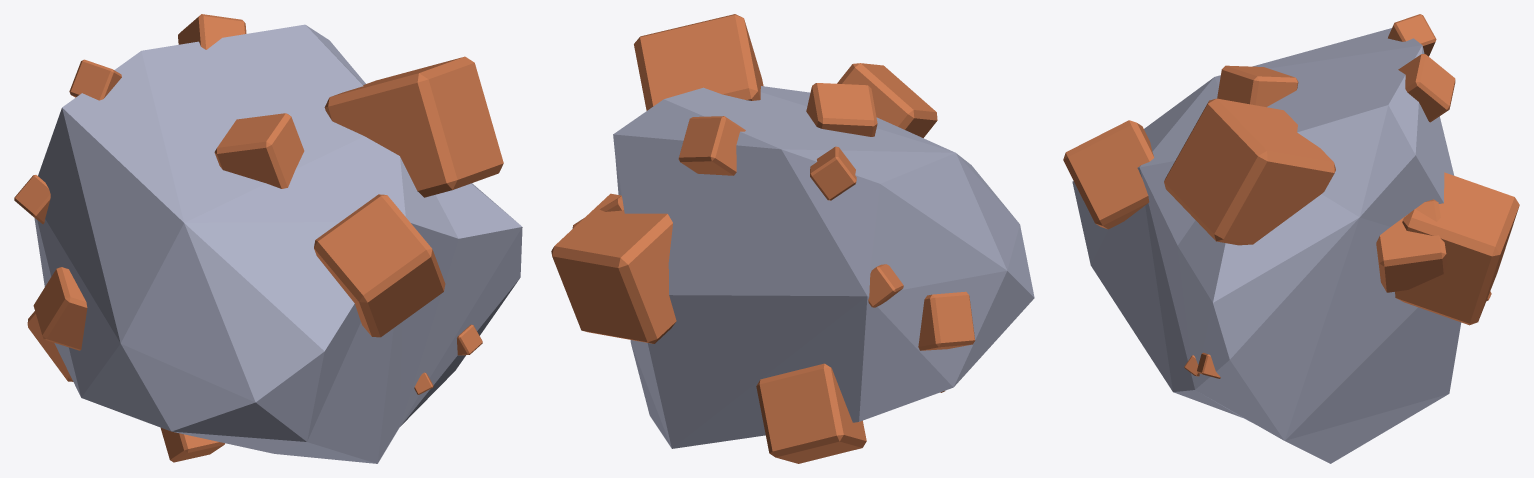
The model's file is metalOre.fbx.
3 renders of one model, left to right at view 1: azimuth 30°, elevation 25°; view 2: azimuth 150°, elevation 25°; view 3: azimuth 270°, elevation 25°, orthographic. The views are drawn at different scales.
Visible parts, largest first — view 1: Cube; view 2: Cube; view 3: Cube.
Part boxes in pixels (x1,y1,x2,y2): Cube: (14, 14, 522, 463); Cube: (551, 14, 1034, 463); Cube: (1063, 14, 1519, 463).
Size of the model in its own units: 111 by 97.16 by 114.
